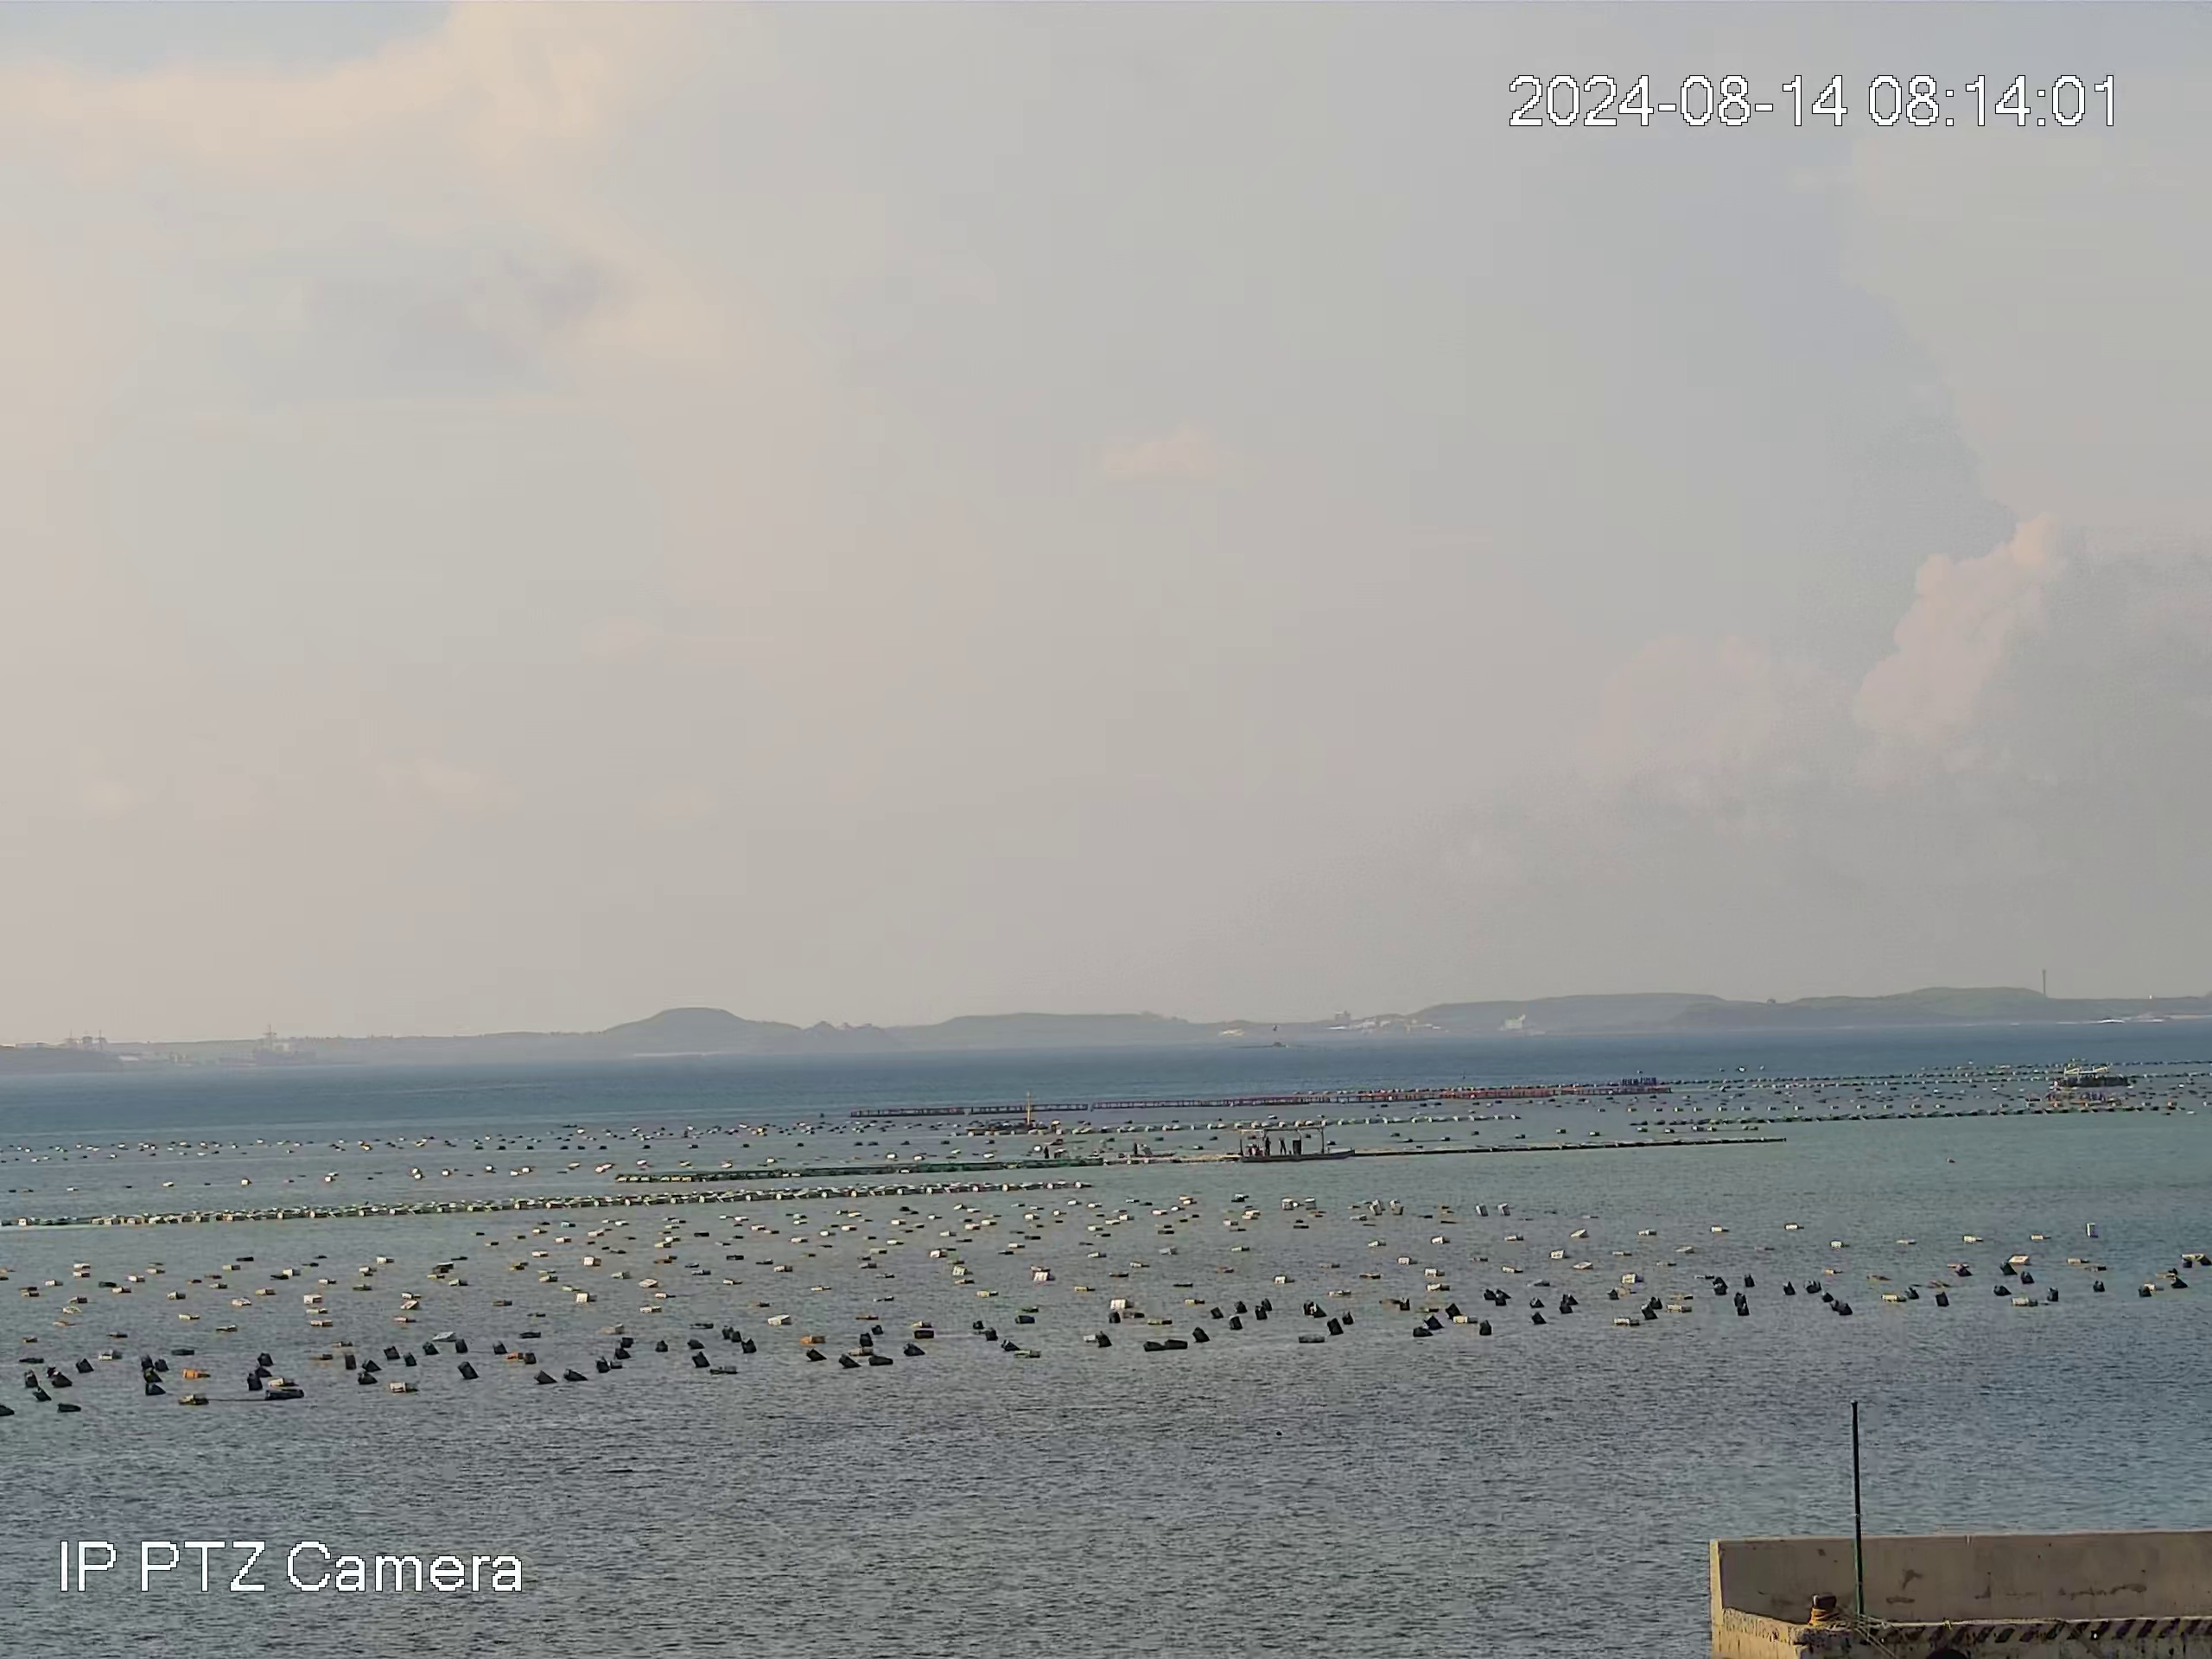boat: (1231, 1127, 1357, 1159), (2055, 1063, 2130, 1086)
